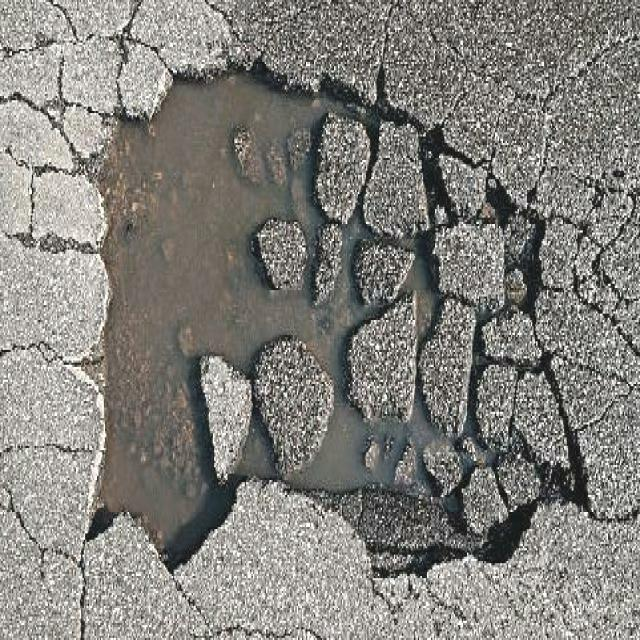Pothole: (80, 49, 603, 587)
